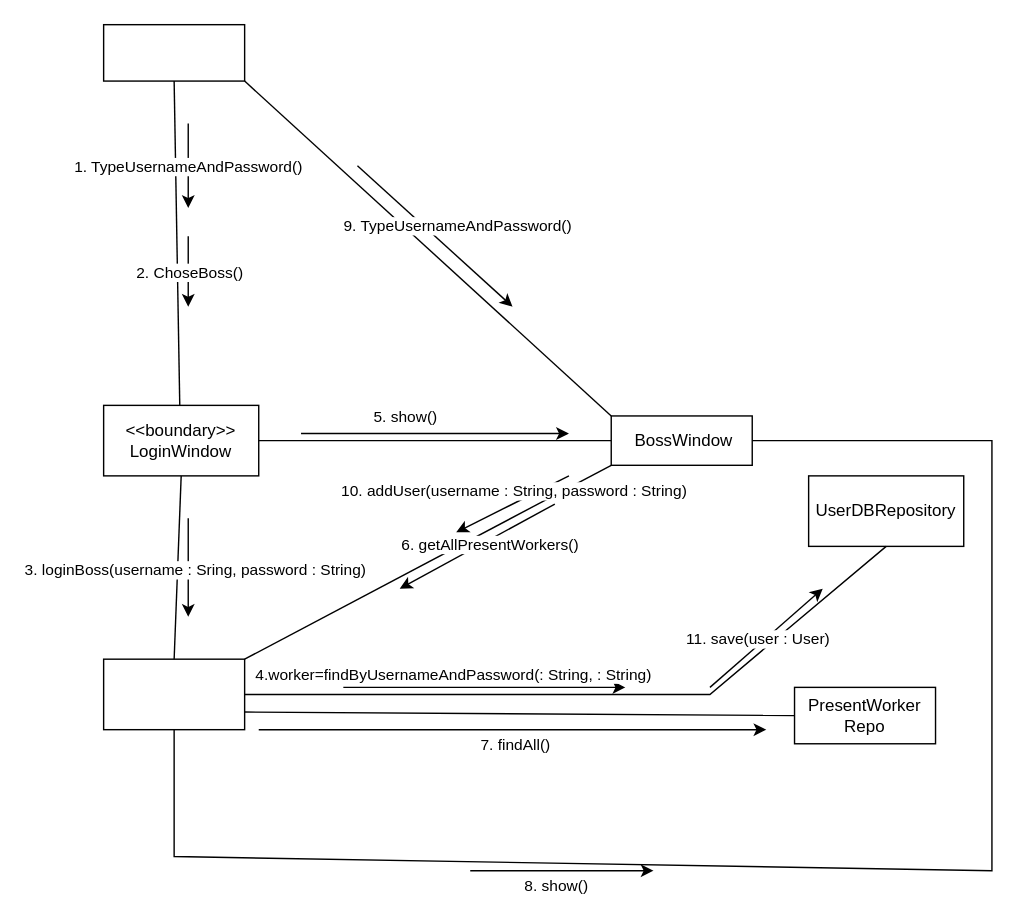
Some shapes in this 1018 by 919 pixel diagram are drawn without their labels. The centre of each missing label's shape, as x and y in pixels:
"Boss" belongs at pixel 173 52.
"Service" belongs at pixel 173 694.
